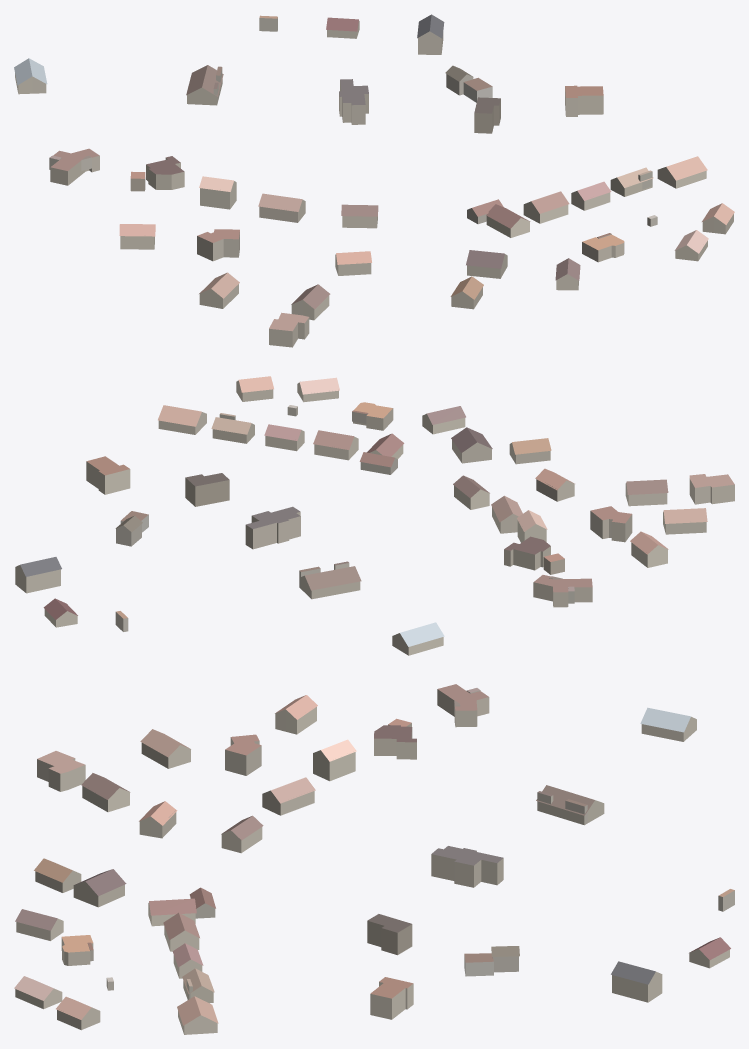
3 renders of one model, top to bottom at view 1: azimuth 30°, elevation 25°; view 2: azimuth 150°, elevation 25°; view 3: azimuth 270°, elevation 25°, orthographic. The views are drawn at different scales.
Visible parts, largest first — view 1: tuile; view 2: tuile; view 3: tuile.
Boxes of the visible parts, box(x1,y1,x2,y2) form: tuile: box(14, 14, 734, 347); tuile: box(15, 376, 734, 655); tuile: box(14, 684, 734, 1034).
Size of the model in its own units: 240 by 31.35 by 249.
